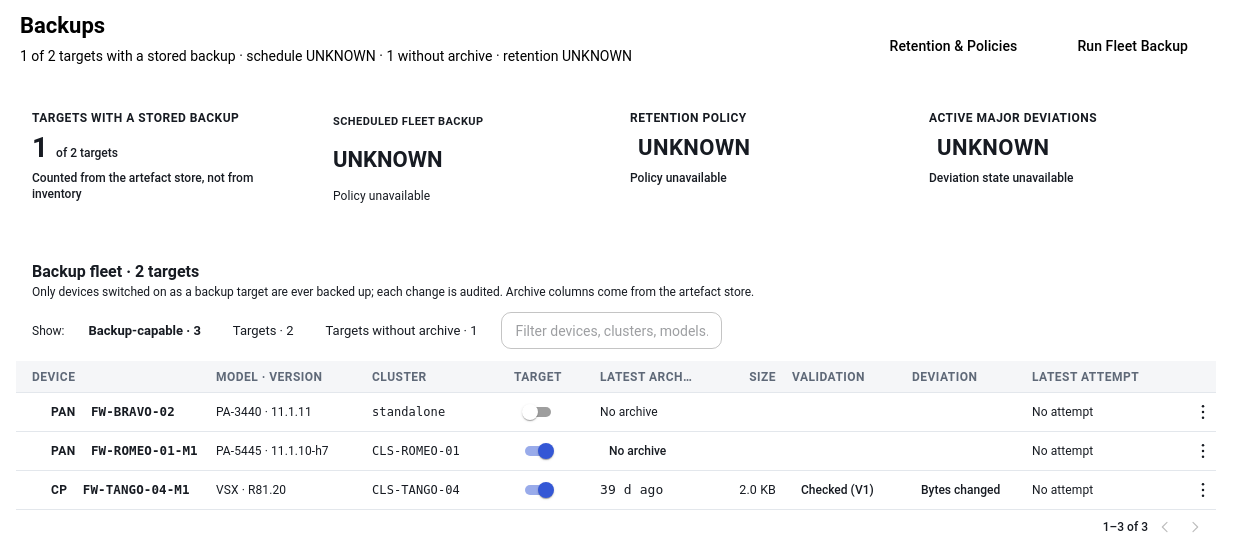
Scenario: the Backups screen (UI review 2026-09-23) › filters to targets without an archive
expect the text "FW-TANGO-04-M1" is shown: met, box [83,480,190,500]
Click the button "Targets without archive · 1".
click(401, 331)  # box [318,319,485,343]
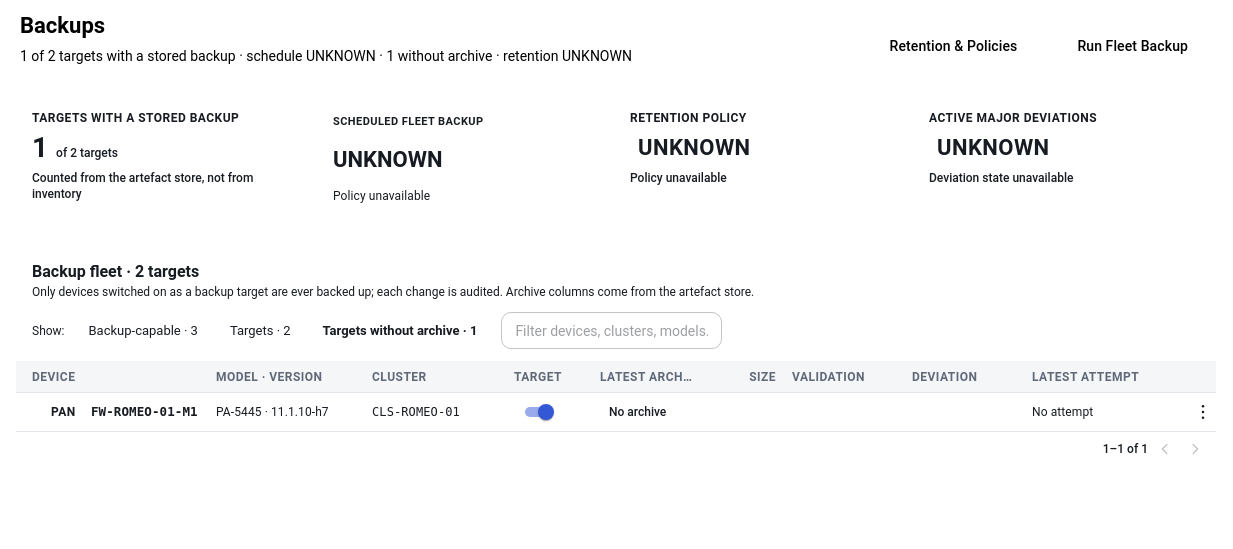
expect the text "FW-ROMEO-01-M1" is shown: met, box [91,402,198,422]
expect the text "FW-TANGO-04-M1" is gone: met
expect the text "FW-BRAVO-02" is gone: met
